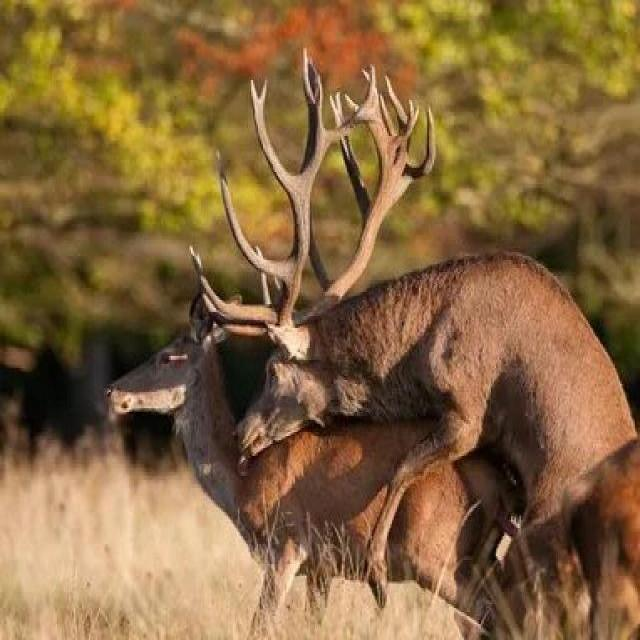deer: (221, 192, 640, 563)
